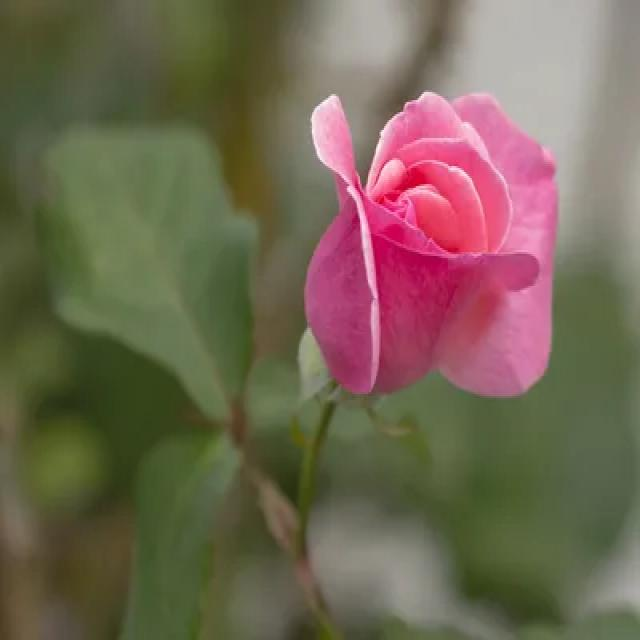rose: (288, 62, 563, 418)
